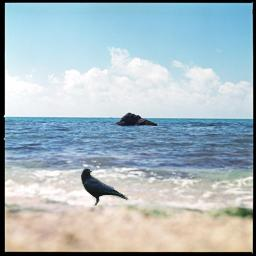Crow: (81, 167, 129, 206)
